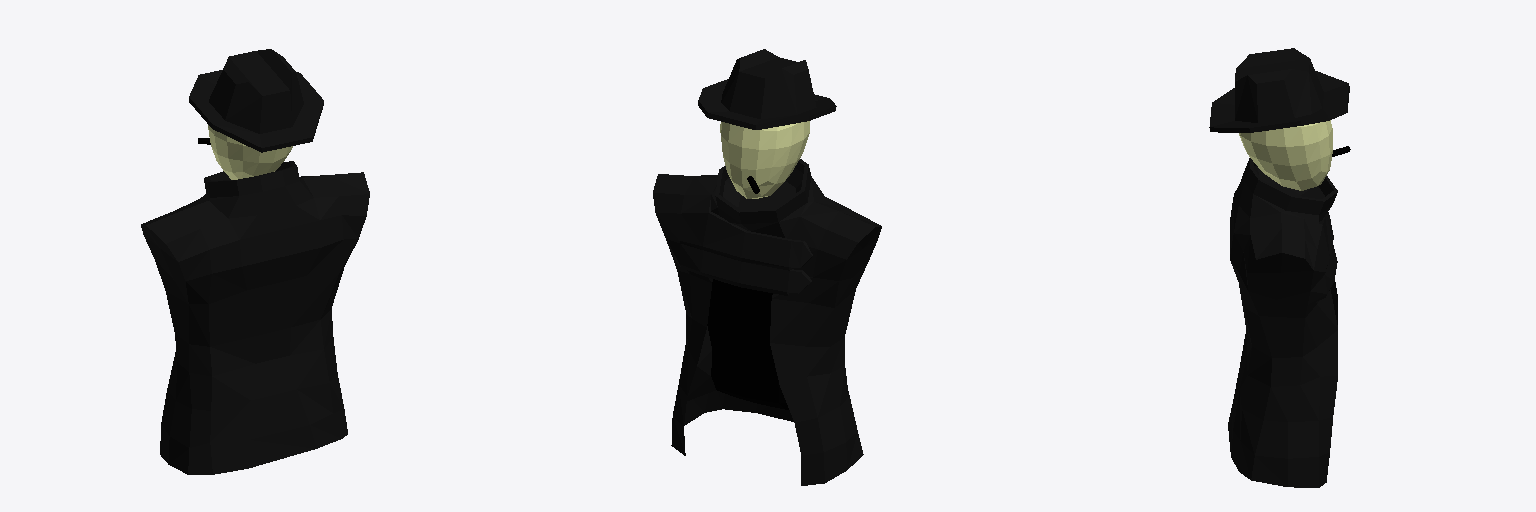
Rendered from PlayerBody_01.obj.
3 renders of one model, left to right at view 1: azimuth 30°, elevation 25°; view 2: azimuth 150°, elevation 25°; view 3: azimuth 270°, elevation 25°, orthographic.
Parts seen in each view (by area): view 1: Body, Hat, Box085; view 2: Body, Hat, Box085; view 3: Body, Hat, Box085.
Boxes of the visible parts, box(x1,y1,x2,y2) form: Body: box(141, 161, 369, 474); Hat: box(189, 49, 323, 152); Box085: box(208, 125, 292, 179); Body: box(653, 159, 881, 485); Hat: box(698, 49, 836, 129); Box085: box(720, 121, 809, 198); Body: box(1228, 158, 1337, 487); Hat: box(1209, 48, 1349, 132); Box085: box(1239, 120, 1332, 190).
Bounding box in the file's own units: 0.619 × 1.07 × 0.3474.